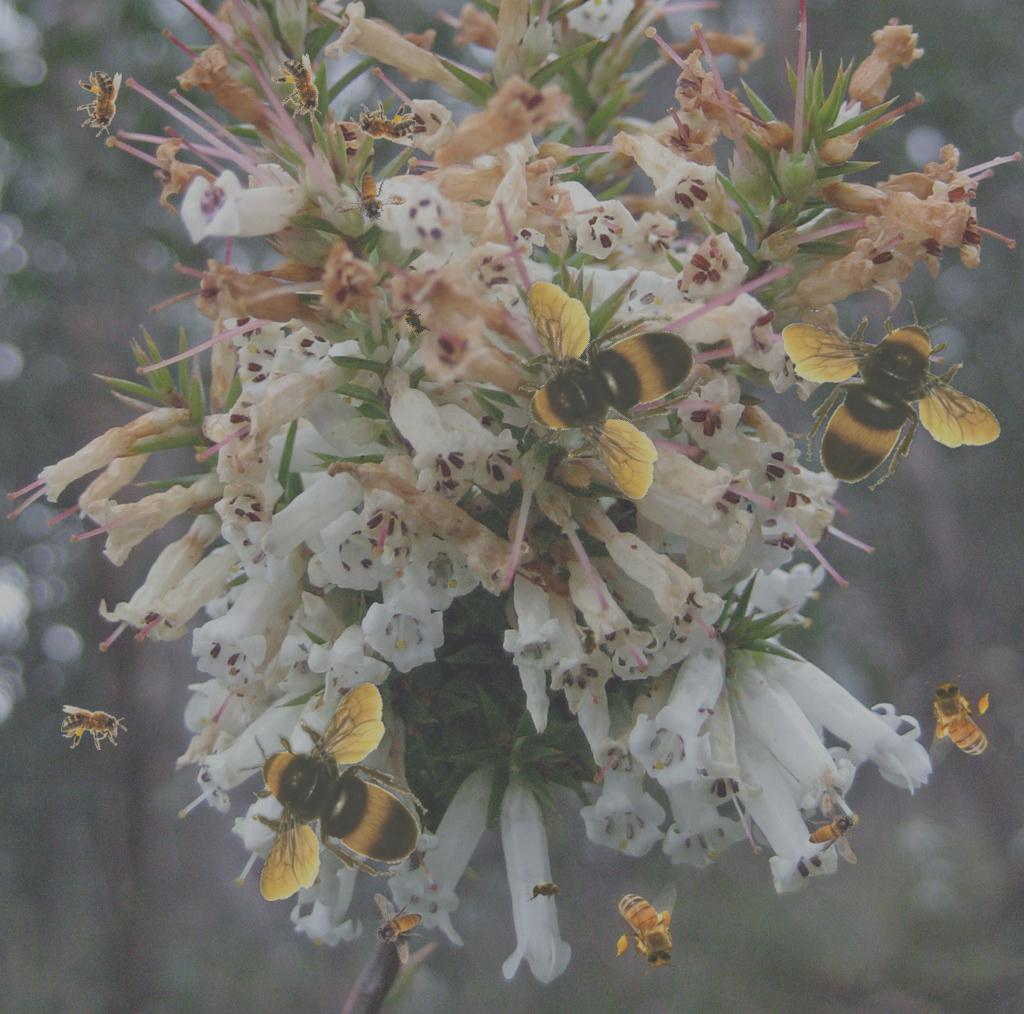Bee: (450, 236, 742, 523), (237, 681, 428, 901), (782, 300, 1002, 491), (925, 675, 993, 768), (613, 881, 681, 974), (330, 163, 414, 232), (265, 51, 335, 130), (373, 893, 423, 964), (808, 793, 858, 864), (348, 98, 418, 147), (77, 71, 122, 137), (61, 705, 127, 750), (395, 298, 435, 344), (578, 622, 600, 662), (526, 880, 566, 902)
